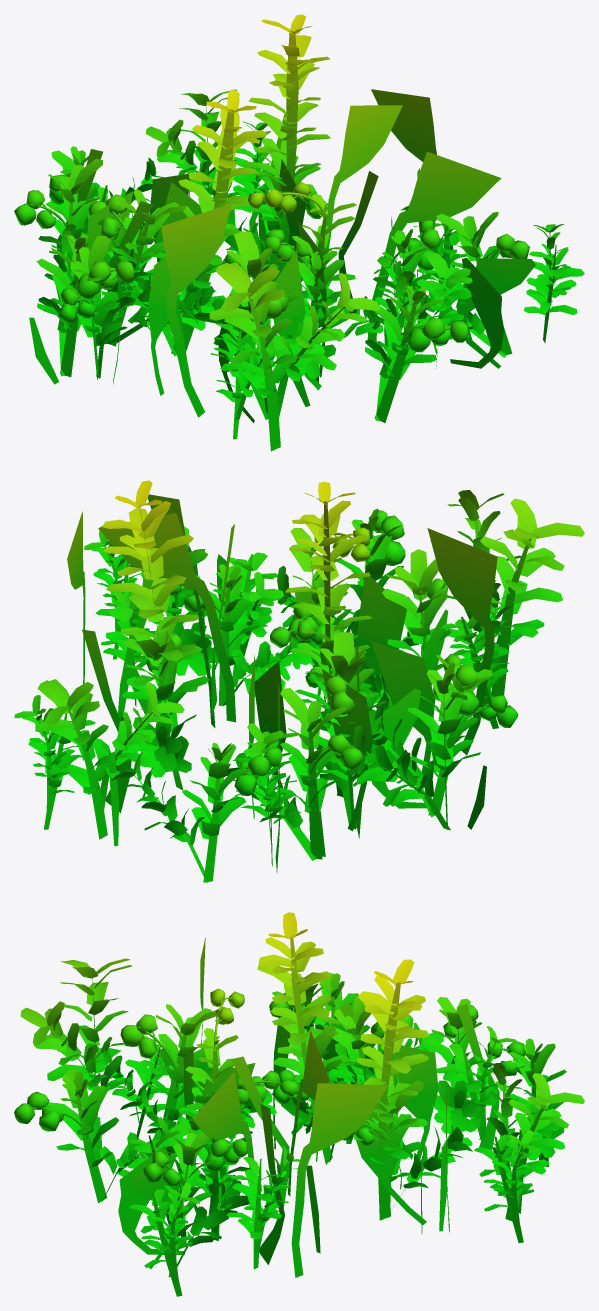
Rendered from Lingonberry_LOD2_Var3.fbx.
3 views of the same model, one above another, from view 1: azimuth 30°, elevation 25°; view 2: azimuth 150°, elevation 25°; view 3: azimuth 270°, elevation 25° (orthographic). The views are drawn at different scales.
Visible parts, largest first — view 1: _hz09_Var3_LOD2; view 2: _hz09_Var3_LOD2; view 3: _hz09_Var3_LOD2.
Boxes of the visible parts, <box> form: _hz09_Var3_LOD2: <box>14,14,584,451</box>; _hz09_Var3_LOD2: <box>14,480,584,882</box>; _hz09_Var3_LOD2: <box>14,912,584,1296</box>.
Size of the model in its own units: 40.4 by 23.93 by 45.83.
